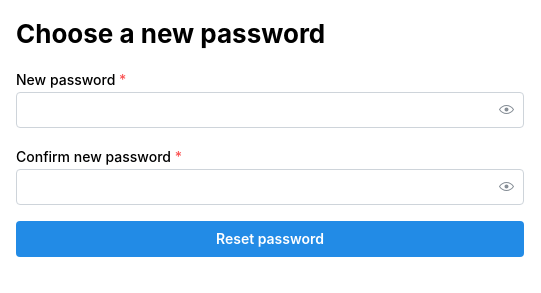
it: ResetPasswordPage › rejects passwords shorter than 8 characters
This screenshot has width=541, height=293.
Type "short" into the password field labelled "New password *" at (270, 110), box [17,93,523,127]
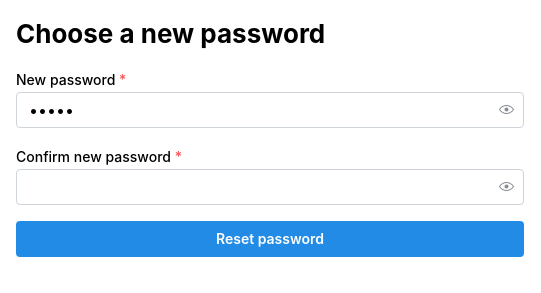
Type "short" into the password field labelled "Confirm new password *" at (270, 187), box [17,170,523,204]
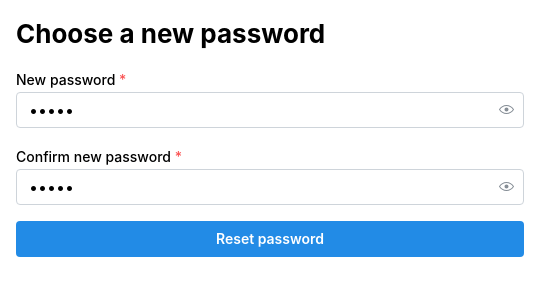
Submit the form "Reset password"
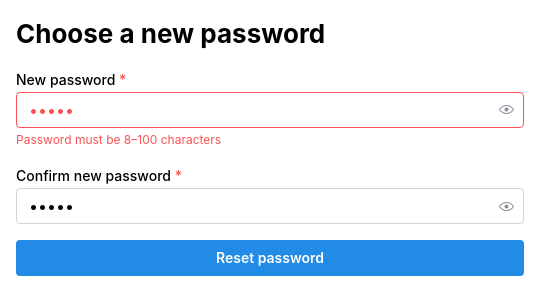
Expected: the text "Password must be 8–100 characters" is shown, [16,132,221,147]
